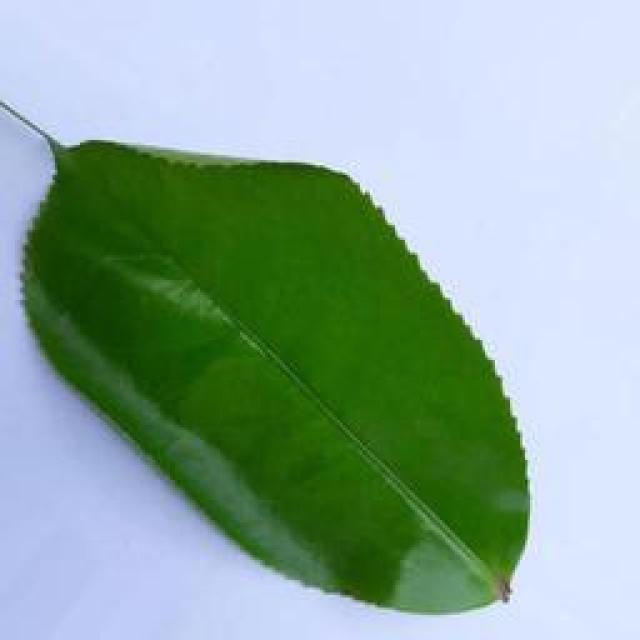Healthy: (22, 128, 524, 612)
